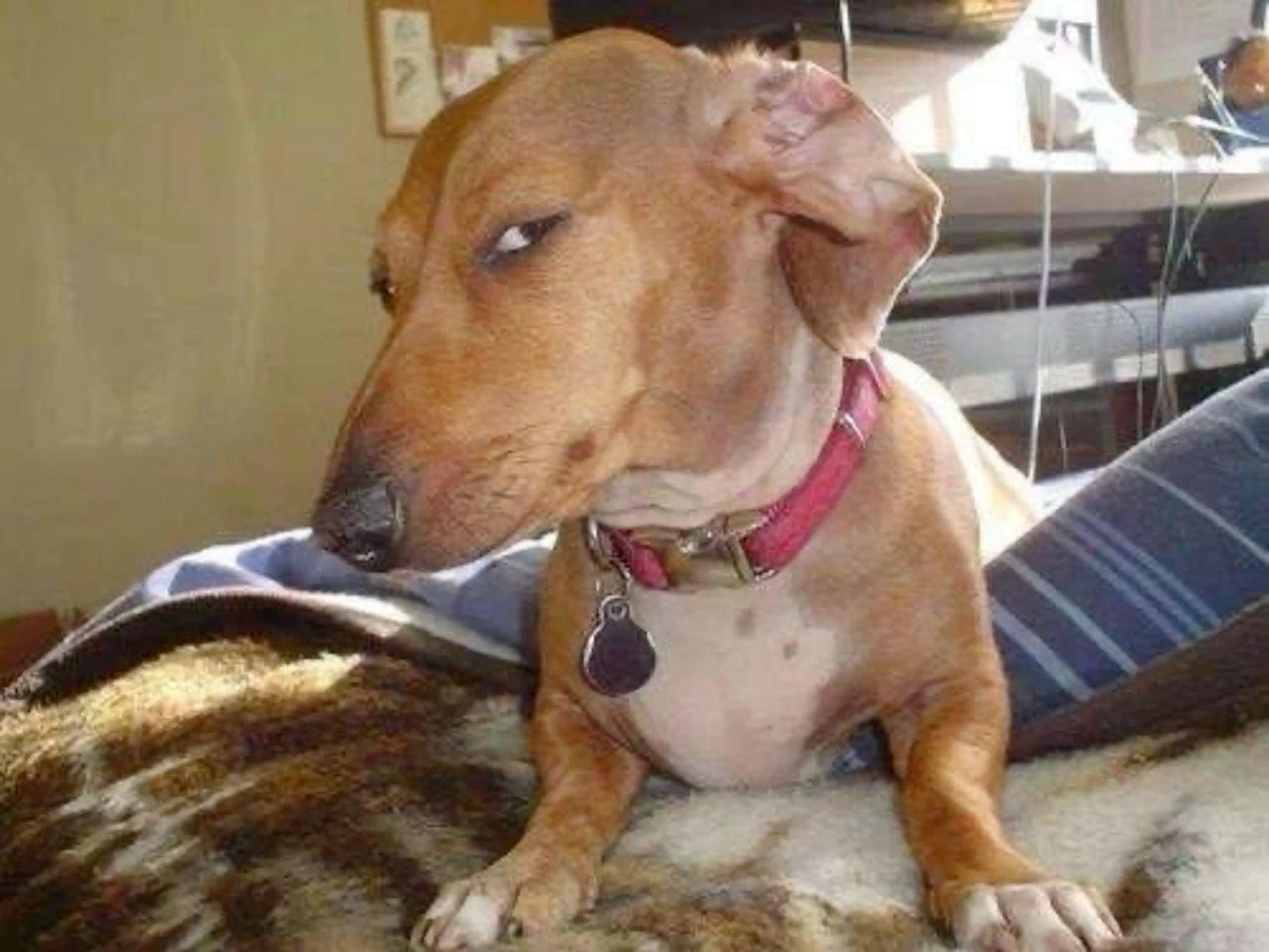adult_dog: (306, 23, 1125, 952)
